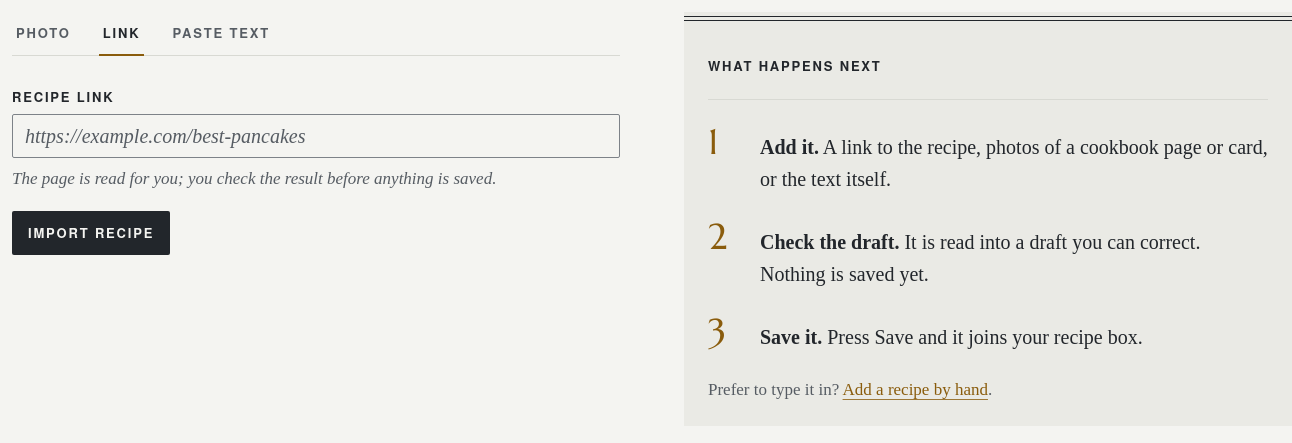
ImportScreen › links back to sign in when the session is gone
Type "https://example.com/pancakes" into the field labelled "Recipe link" at (316, 136), box [12, 114, 620, 158]
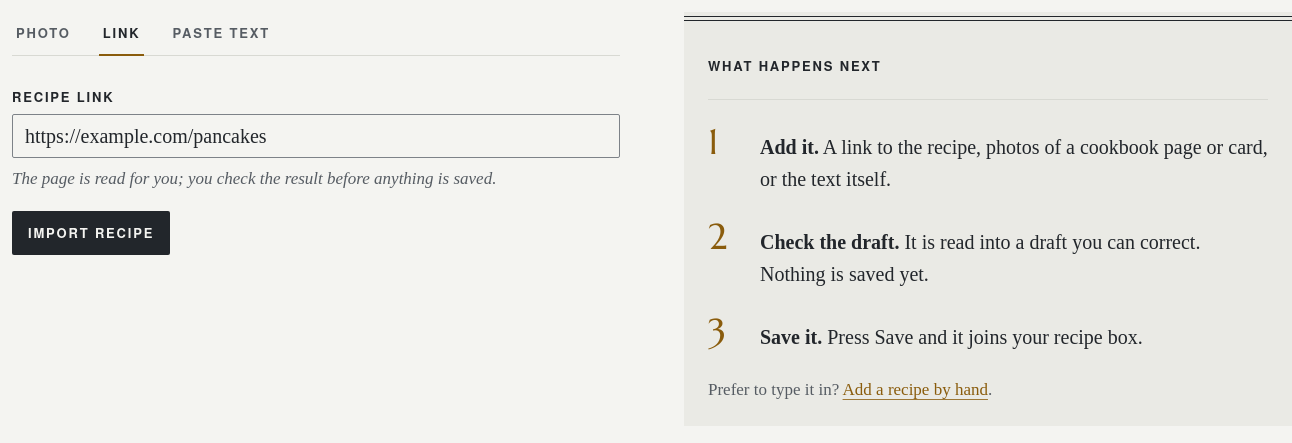
Click the button "Import recipe" at (91, 233), box [12, 211, 170, 255]
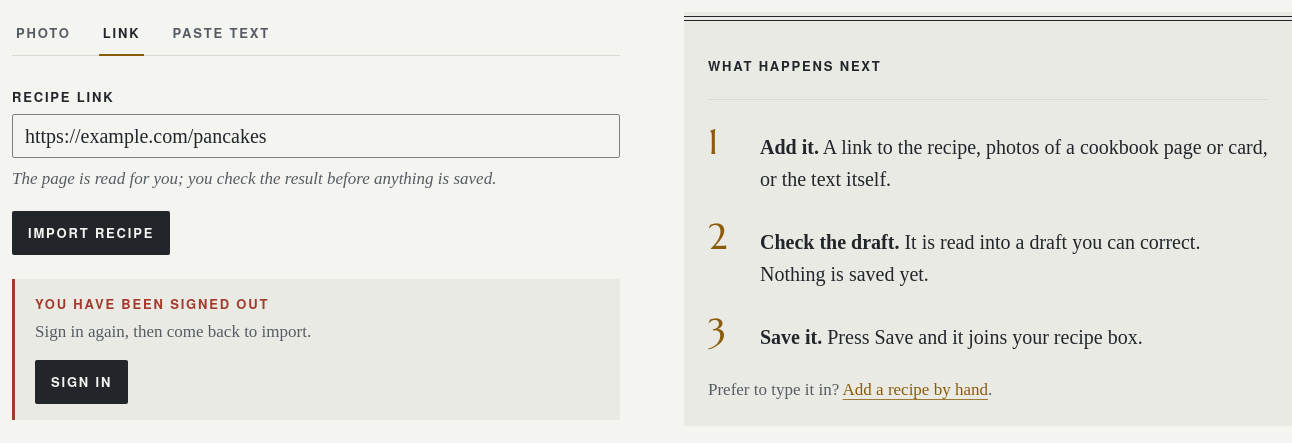
Expected: the text "You have been signed out" is shown, [35, 294, 269, 313]
